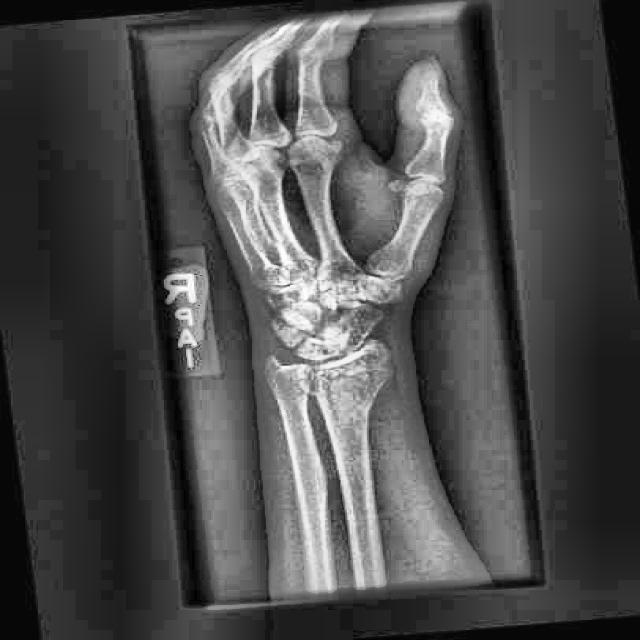wrist positive: (258, 353, 411, 391)
